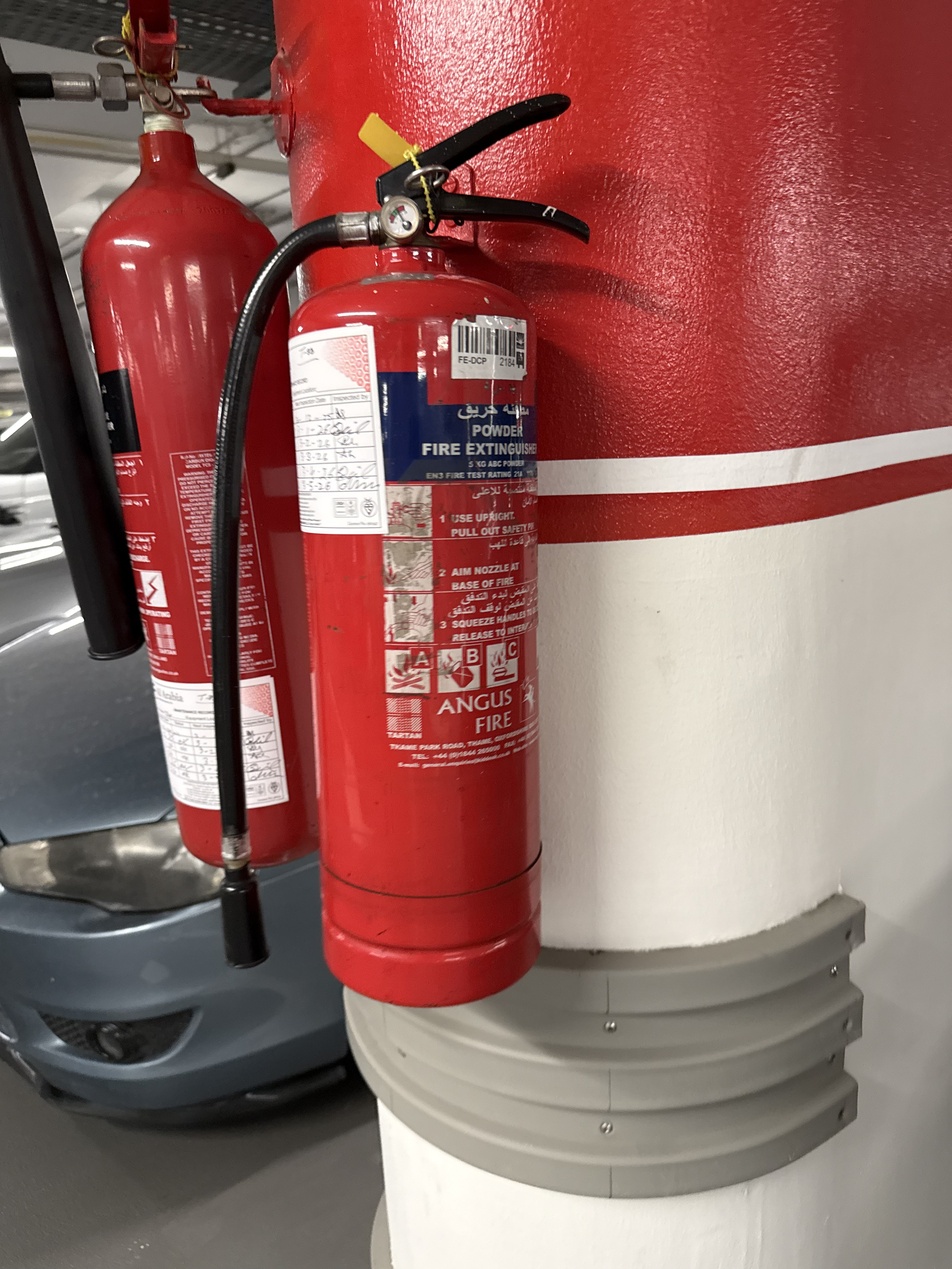fire_extinguisher: (209, 90, 592, 1009), (10, 1, 319, 873), (79, 2, 319, 872)
